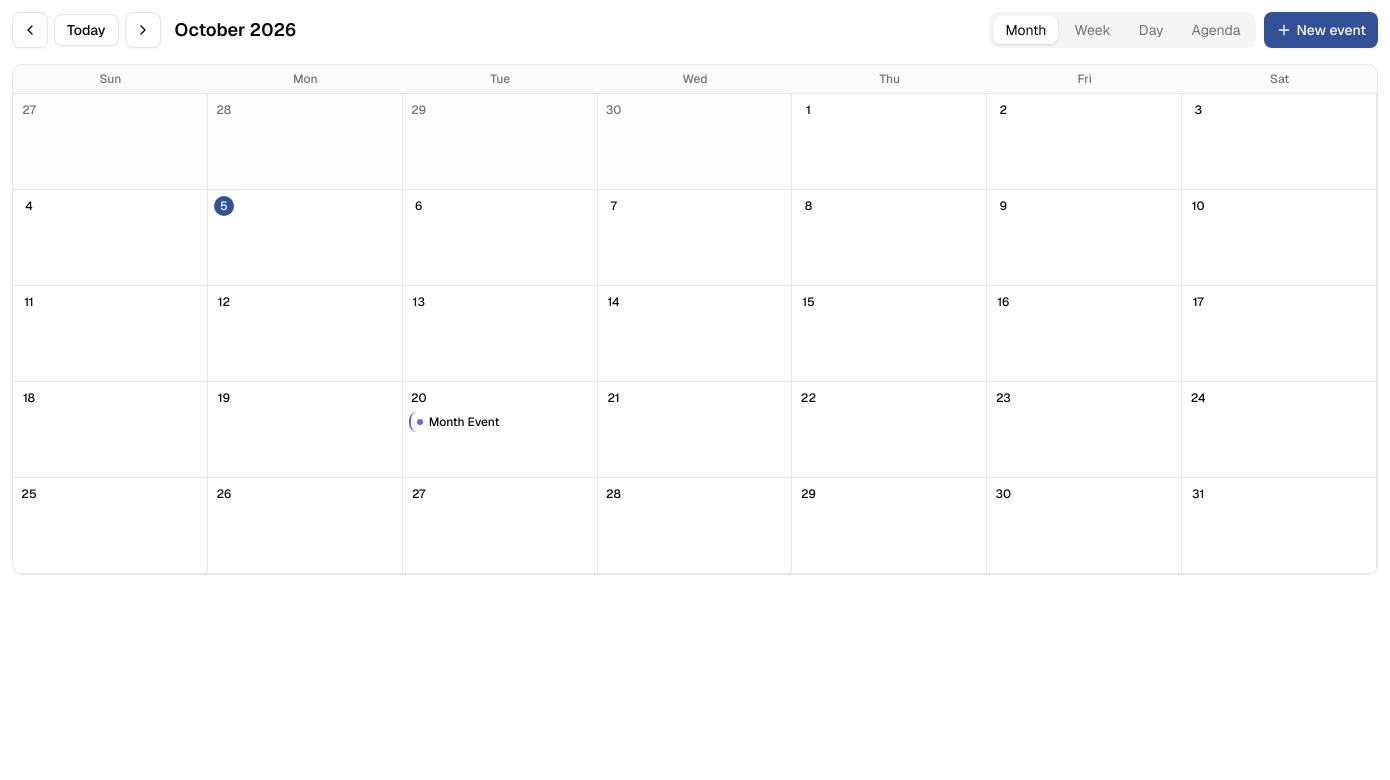
Test case: CalendarView range switching › reloads the month range when returning from day (reported bug)
Check: the text "Month Event" is shown, box 429,414 -> 499,430
Note: Day tab → loads only that day's items.
Click the button "Day": (1151, 30) 1127,16 -> 1176,44
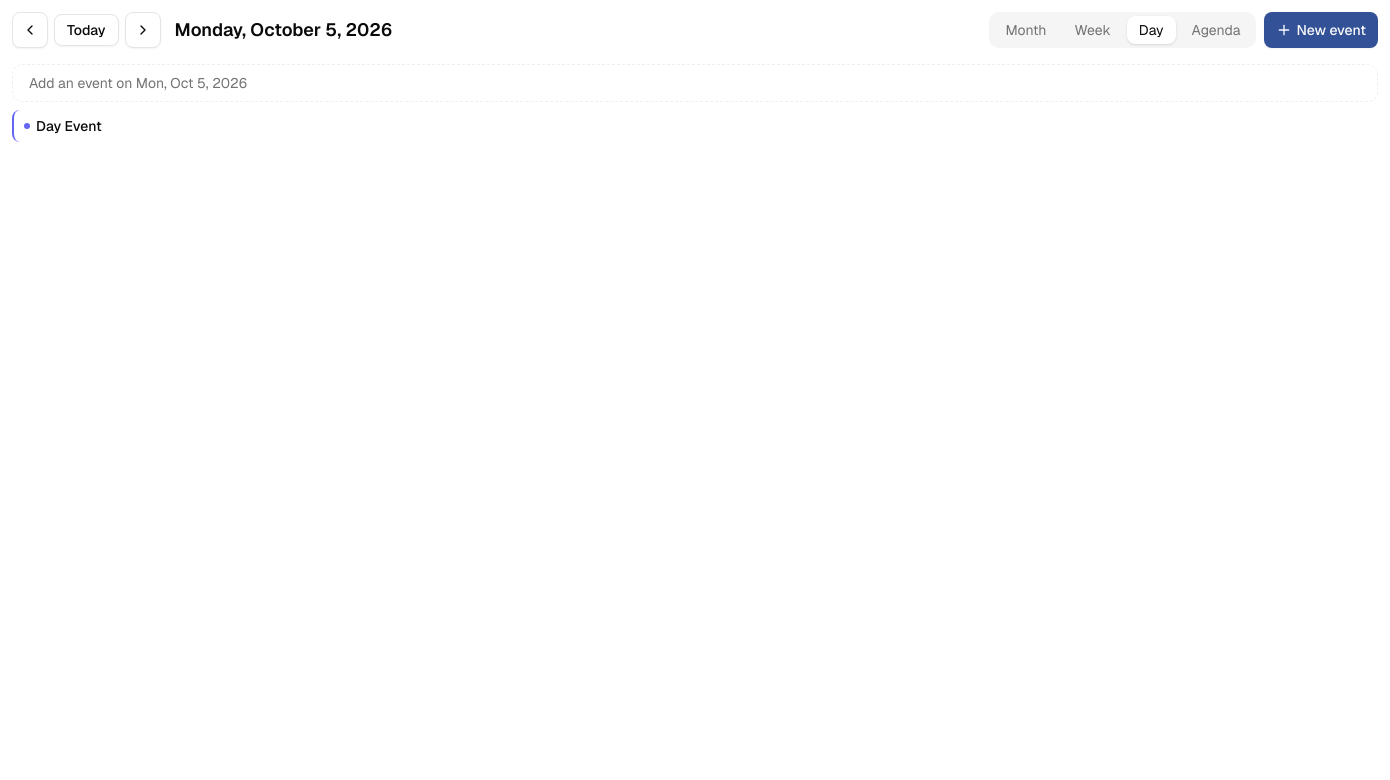
Check: the text "Day Event" is shown, box 36,116 -> 102,136
Check: the button "Month Event" is gone
Note: Back to Month → must refetch, not keep the day's items on screen.
Click the button "Month": (1026, 30) 993,16 -> 1058,44
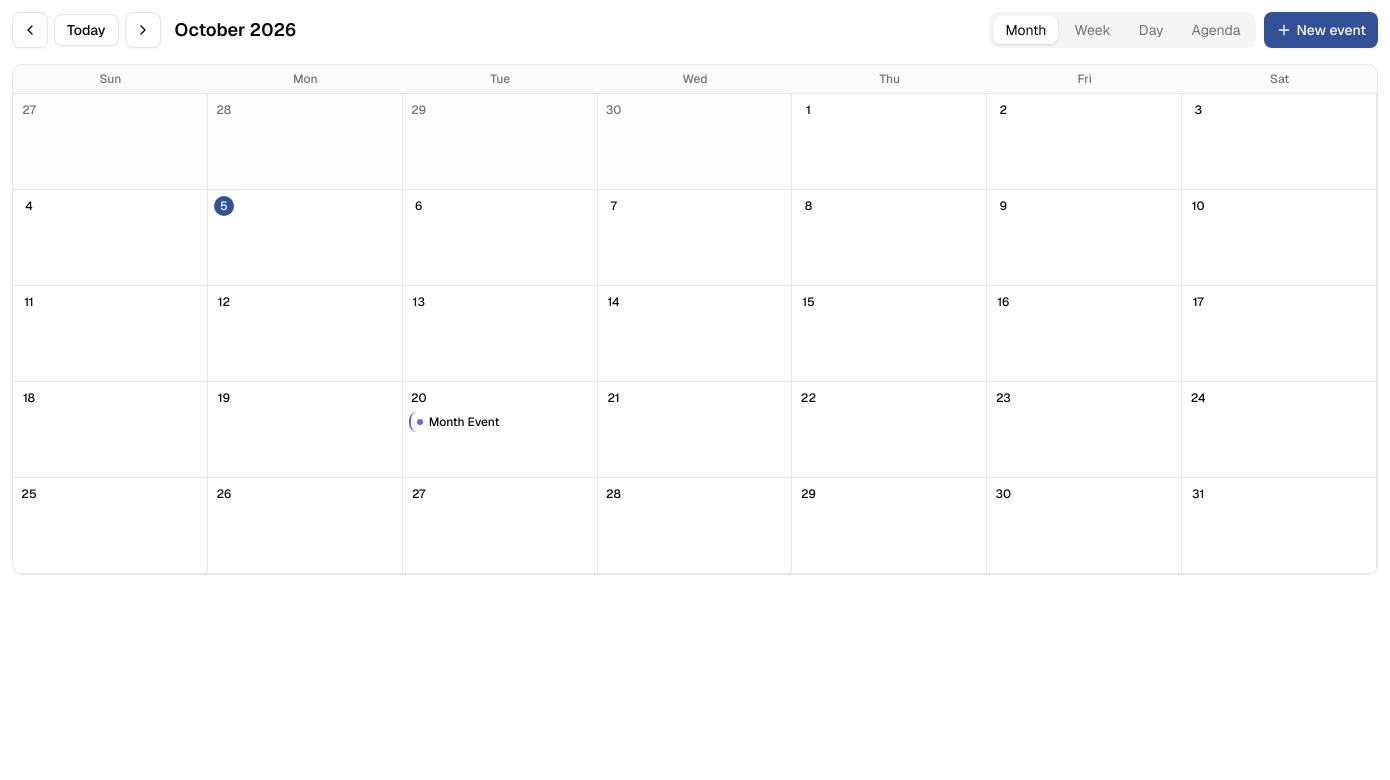
Check: the text "Month Event" is shown, box 429,414 -> 499,430
Check: the button "Day Event" is gone
